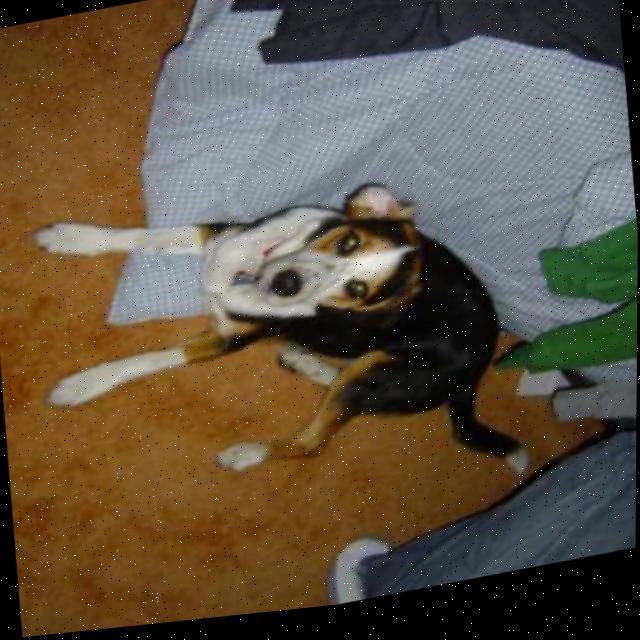dogs: (0, 100, 549, 569)
